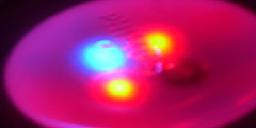LED: (77, 39, 129, 73), (143, 30, 183, 55), (103, 77, 138, 102)
